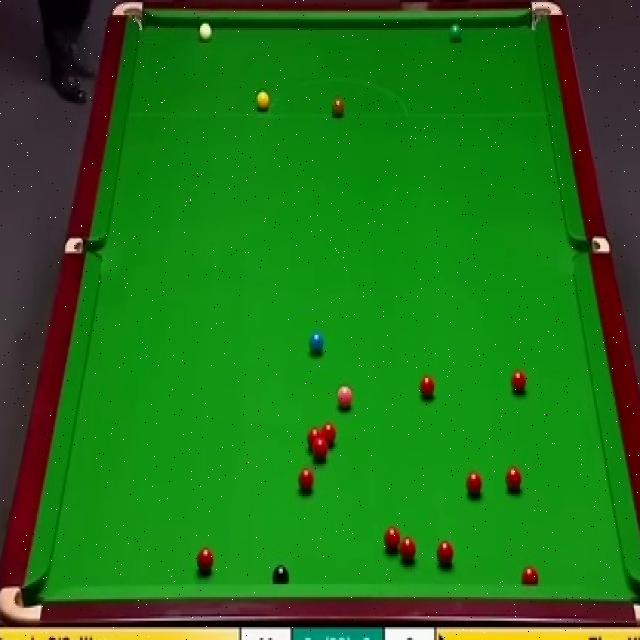black-ball: (272, 561, 290, 586)
blue-ball: (307, 331, 324, 358)
brown-ball: (330, 95, 345, 119)
green-ball: (447, 23, 464, 43)
pink-ball: (336, 380, 354, 410)
red-ball: (399, 534, 417, 567), (419, 372, 437, 403), (436, 540, 454, 569), (383, 525, 401, 553), (504, 465, 521, 492), (297, 468, 314, 495), (510, 368, 527, 395), (198, 546, 214, 573), (466, 472, 482, 498), (322, 423, 337, 449), (522, 564, 539, 586), (308, 427, 322, 449), (314, 441, 328, 462)
white-ball: (198, 21, 212, 46)
yellow-ball: (254, 89, 270, 111)
